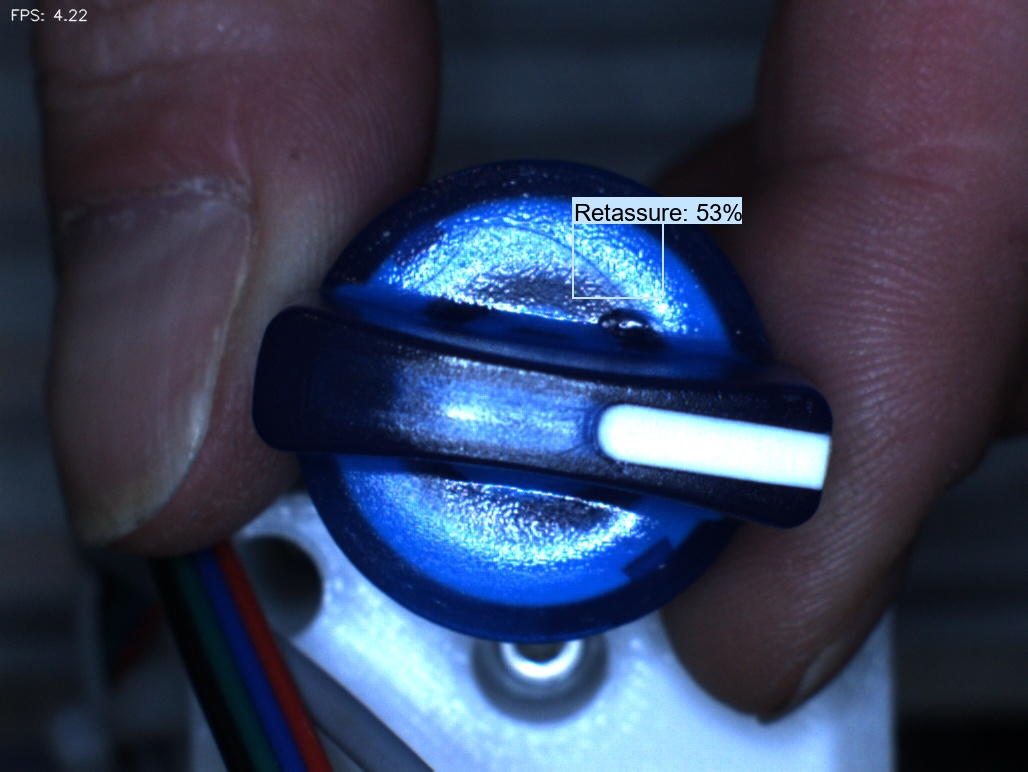Choc: (590, 284, 671, 365)
